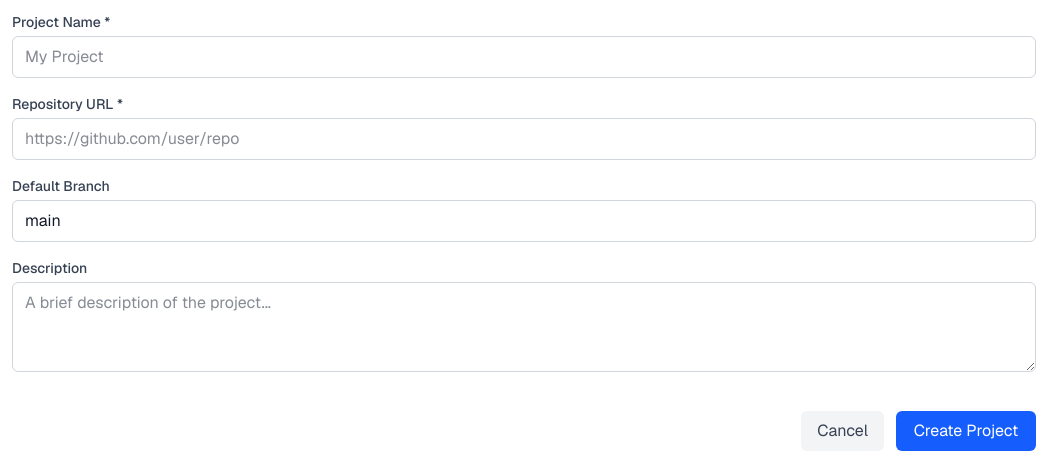
Test: ProjectForm › Common behaviour › should disable submit button while loading
Type "New Project" into the field labelled "Project Name *" at (524, 57), box [12,36,1036,78]
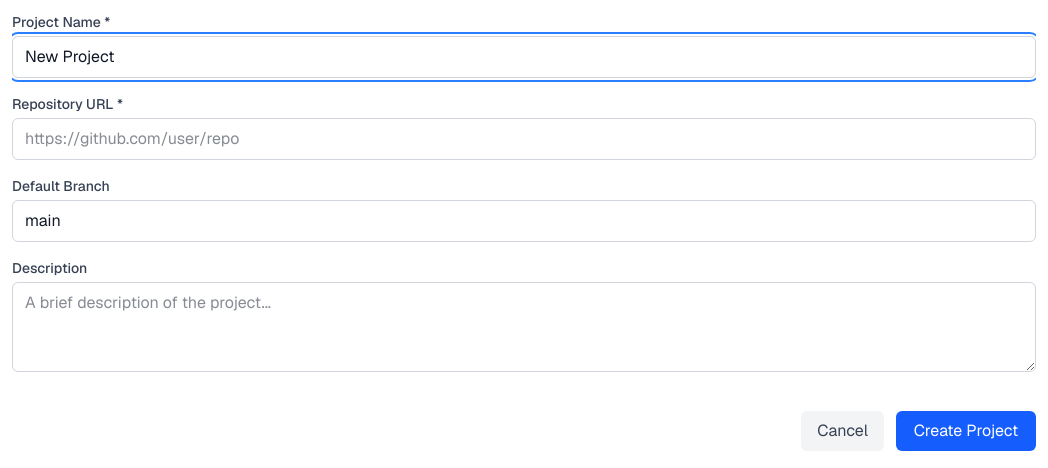
Type "https://github.com/user/new-repo" into the field labelled "Repository URL *" at (524, 139), box [12,118,1036,160]
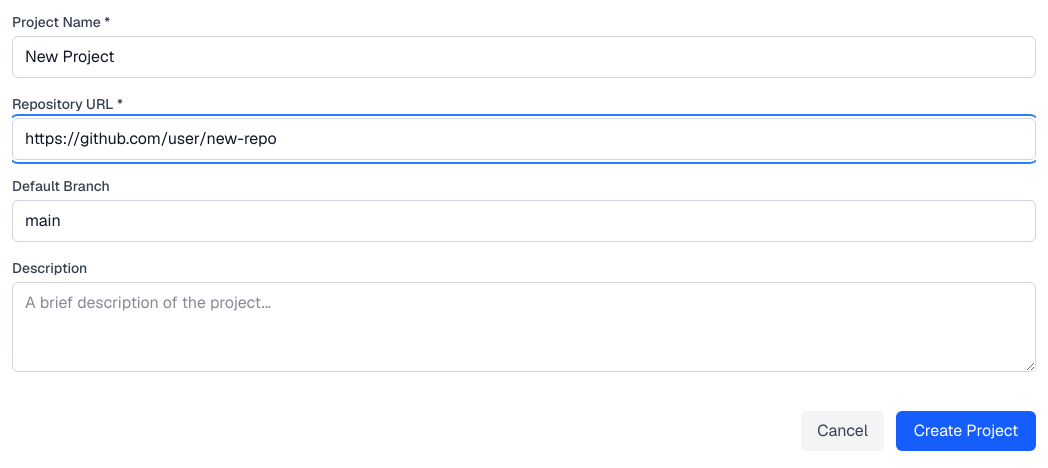
Click the button "Create Project" at (966, 431), box [896,411,1036,451]
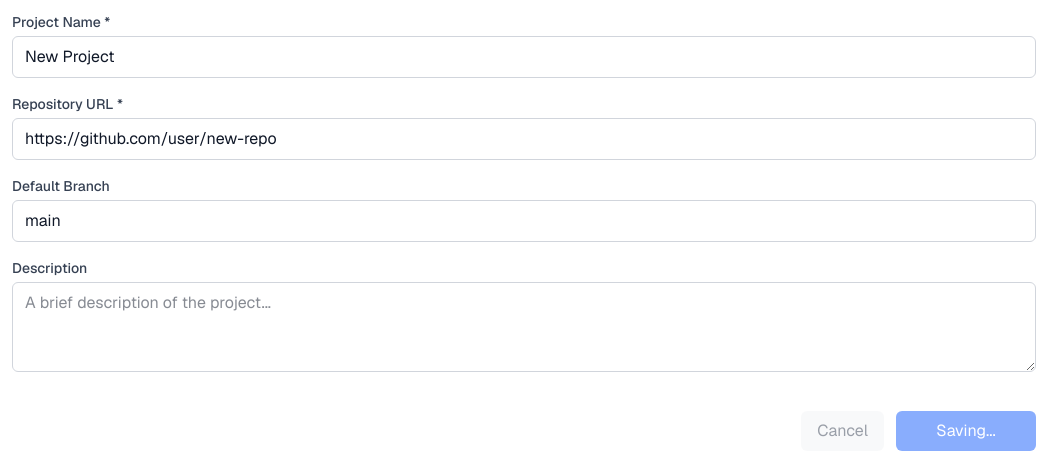
Expected: the button named "create project" is disabled, [896,411,1036,451]
